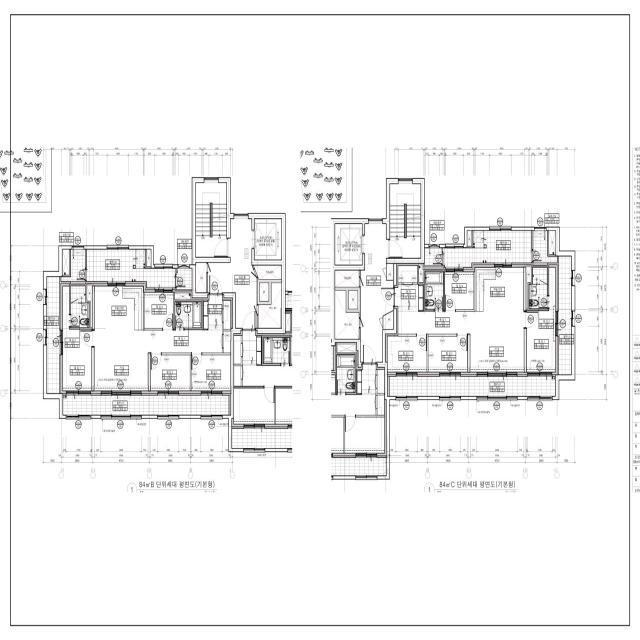space_balconi: (87, 249, 175, 288), (443, 231, 531, 267), (389, 377, 555, 396), (63, 396, 229, 415), (559, 257, 571, 375), (47, 277, 59, 393)
space_bedroom: (63, 286, 92, 391), (527, 268, 555, 372), (387, 336, 427, 372), (428, 336, 468, 372), (192, 355, 231, 391), (151, 355, 190, 390), (445, 272, 474, 310), (145, 293, 173, 329)
space_elevator: (335, 224, 362, 265), (255, 219, 281, 260)
space_elevator_hall: (208, 219, 257, 328), (361, 224, 393, 362)
space_front: (203, 295, 231, 329), (395, 285, 423, 312)
space_kitchen: (95, 286, 143, 331), (475, 268, 524, 311)
space_living_room: (94, 331, 231, 391), (398, 312, 524, 372)
space_other: (335, 291, 359, 339), (258, 283, 282, 328), (335, 271, 359, 287), (176, 268, 192, 290), (254, 266, 281, 279), (398, 266, 417, 282), (196, 263, 206, 293), (425, 248, 442, 265), (526, 267, 531, 309), (87, 286, 92, 327), (348, 291, 358, 309), (383, 311, 393, 329), (62, 250, 69, 275), (260, 283, 269, 301), (549, 231, 556, 254), (175, 293, 191, 300), (387, 264, 393, 280), (467, 231, 472, 246), (147, 250, 151, 266), (419, 266, 423, 282)
space_outdoor_room: (533, 231, 557, 263), (61, 250, 85, 281)
space_staircase: (196, 183, 227, 257), (390, 184, 421, 258)
space_toilet: (71, 286, 90, 327), (529, 268, 547, 309), (175, 302, 202, 328), (425, 272, 443, 309)
